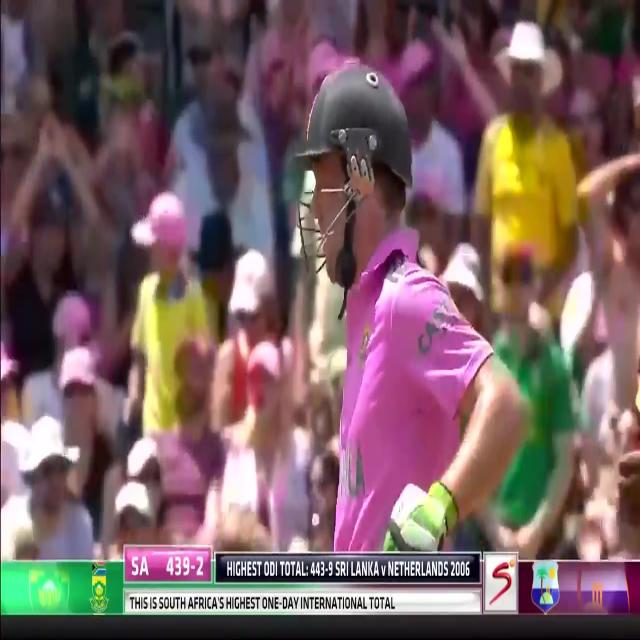Ball: (295, 66, 534, 554)
